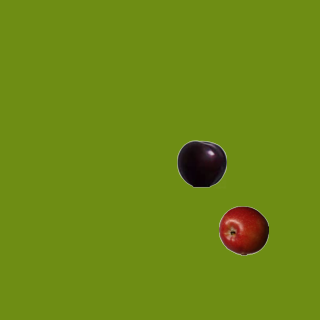Apple Braeburn: (218, 205, 268, 255)
Cherry Wax Black: (176, 138, 226, 188)
